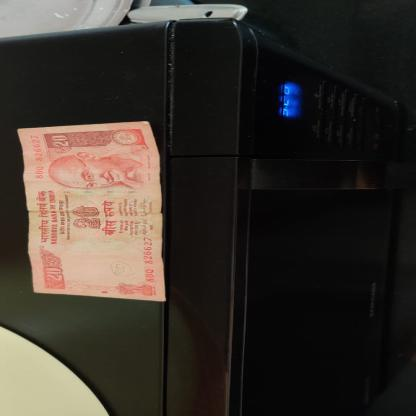Old20Front: (17, 121, 166, 303)
